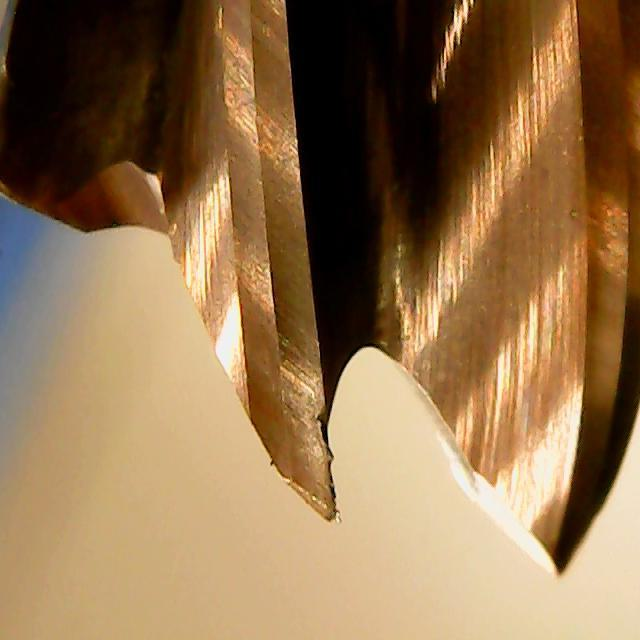Tool-wear-class-1: (231, 281, 342, 524)
